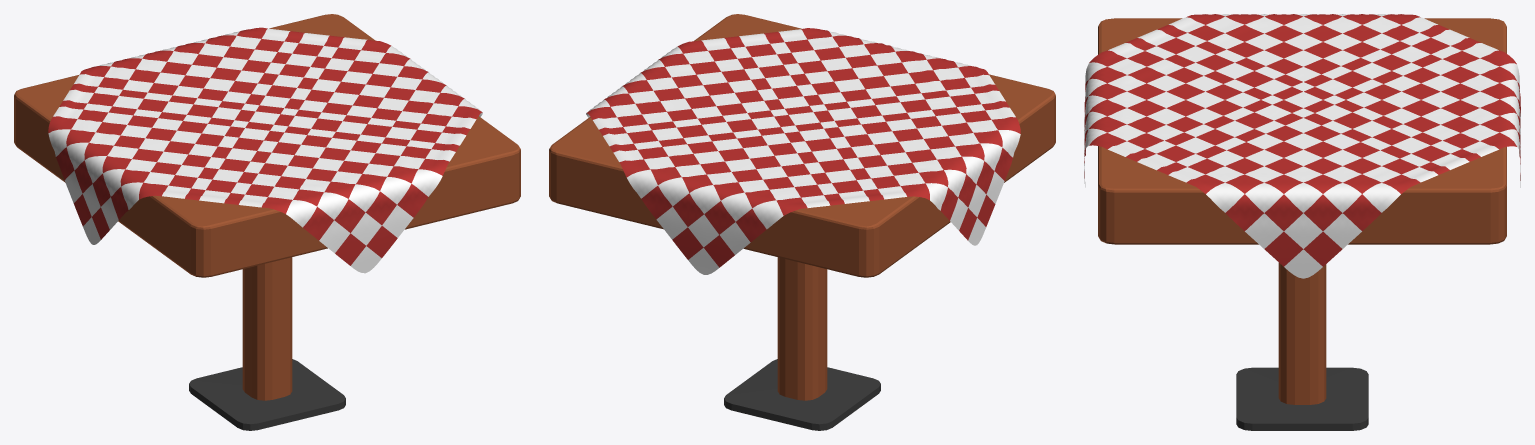
The model's file is yeni_massa.fbx.
3 renders of one model, left to right at view 1: azimuth 30°, elevation 25°; view 2: azimuth 150°, elevation 25°; view 3: azimuth 270°, elevation 25°, orthographic. The views are drawn at different scales.
Parts seen in each view (by area): view 1: table.001; view 2: table.001; view 3: table.001.
Part boxes in pixels (x1,y1,x2,y2): table.001: (14,14,520,430); table.001: (549,14,1055,430); table.001: (1084,14,1520,430).
Bounding box in the file's own units: 51.2 × 39.26 × 51.19.
